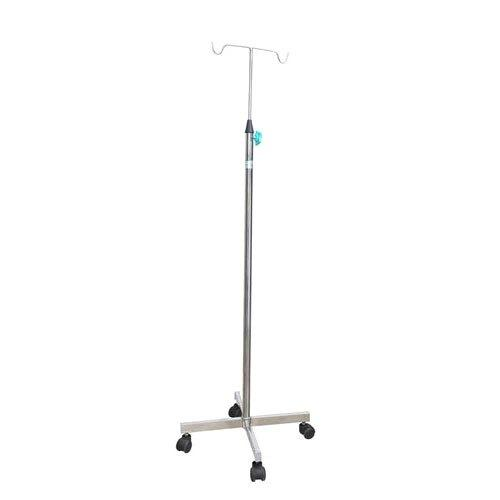Saline Stand: (174, 39, 316, 482)
